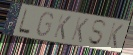G: (35, 12, 54, 38)
K: (104, 21, 125, 50), (52, 13, 73, 41), (69, 16, 90, 44)
L: (17, 7, 32, 36)
S: (87, 18, 108, 46)
